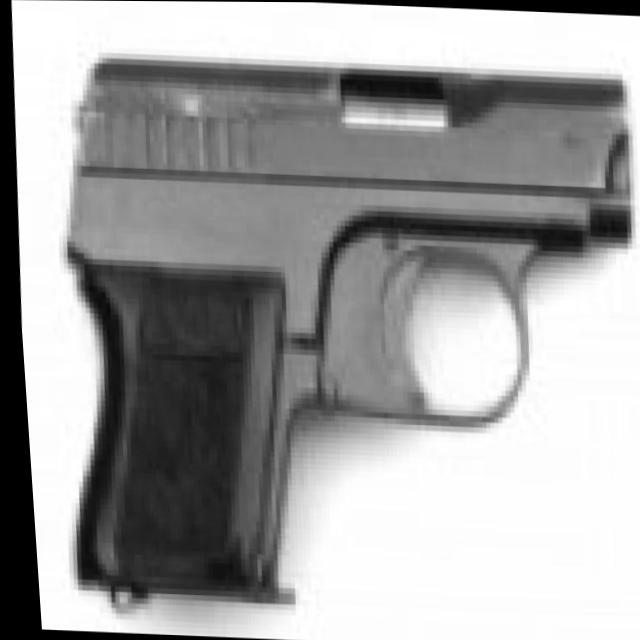weapon: (36, 46, 640, 630)
